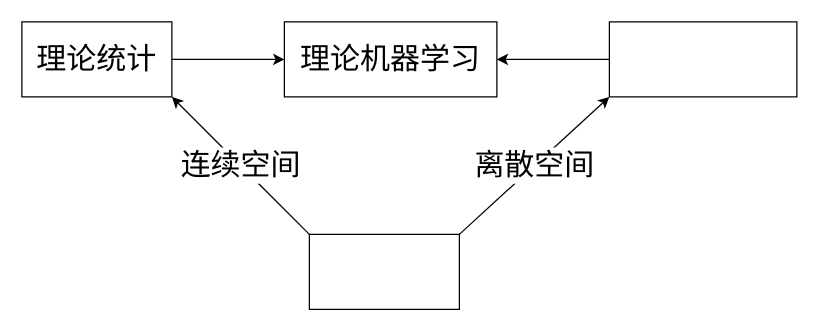
Image size: 819x331. Some labels were removed from this diagram. Each missing label, with the centre of its shape:
"理论计算机" belongs at [702,59].
"高维概率" belongs at [383,271].
